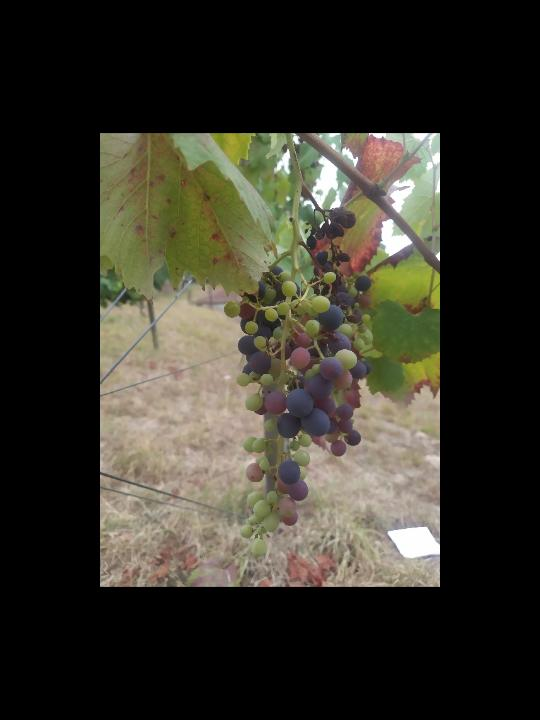grape: (223, 264, 373, 561), (302, 208, 358, 296)
